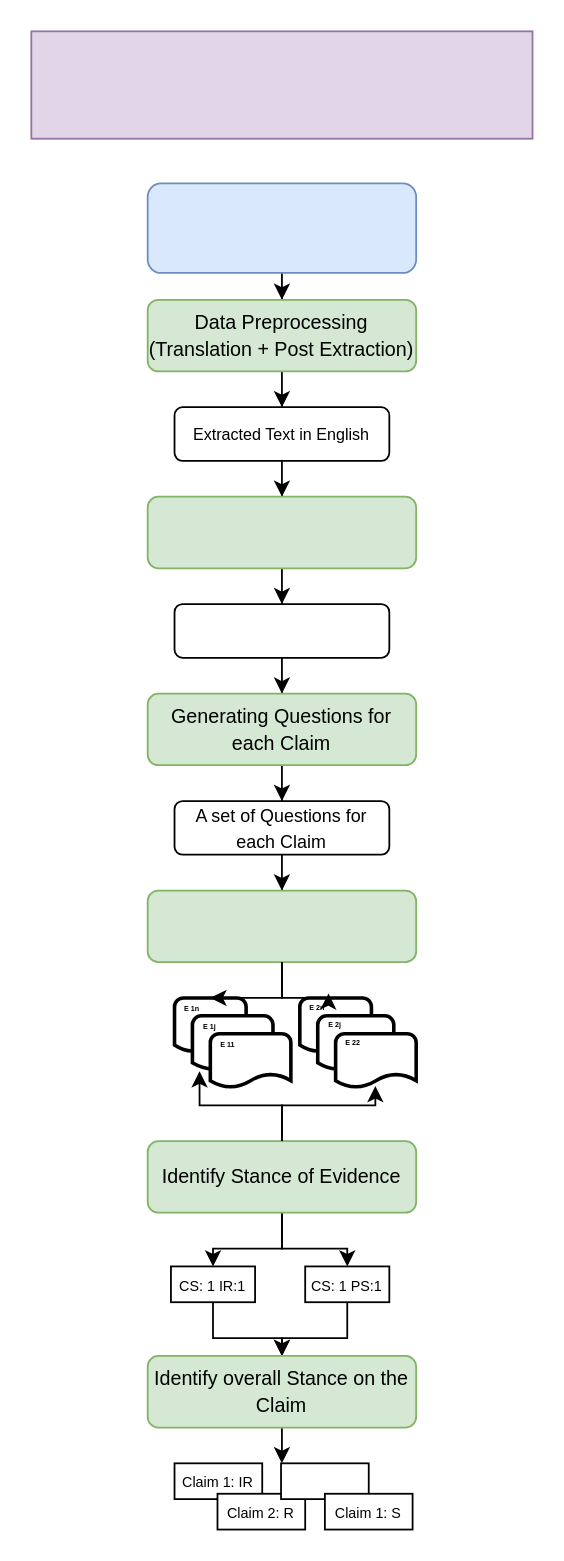
Image size: 564x1561. Some labels were removed from this diagram. The centre of each missing label's shape, as x and y in pixels:
"A set of check-worthy Claims" goes at (281,630).
"Claim 2: PS" goes at (324,1480).
"Download CSV from Meta Ads Library (Relevant Party, Time Duration)" goes at (281,227).
"North Macedonian Elections Meta Social Media Post Fact Checker Pipeline" goes at (281,84).
"Post Decomposed and Claims Extracted" goes at (281,531).
"Retrieve and Collect Evidence" goes at (281,925).
